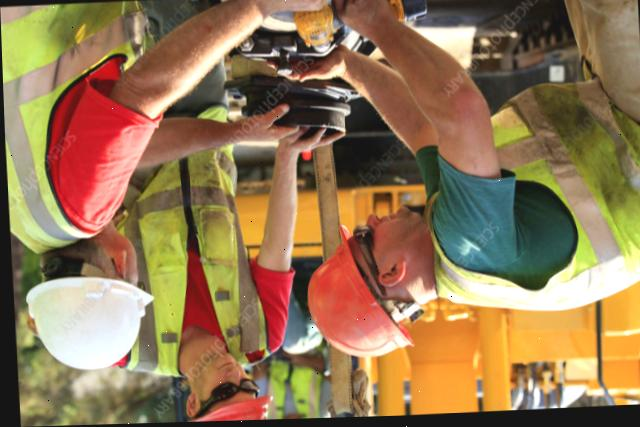helmet: (297, 218, 405, 367), (17, 275, 146, 374), (164, 392, 278, 423)
vest: (419, 109, 640, 309), (0, 0, 143, 253), (115, 136, 264, 376), (261, 352, 318, 421)
